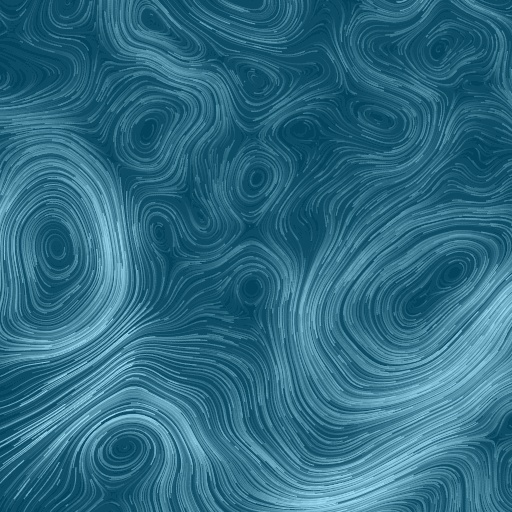eddy: (5, 177, 114, 340), (398, 249, 478, 325), (124, 2, 206, 70), (118, 96, 183, 167), (88, 423, 153, 481), (231, 153, 284, 209), (351, 95, 406, 140), (416, 29, 467, 74), (235, 269, 272, 311), (240, 61, 279, 100), (145, 214, 178, 253), (285, 115, 320, 146)
